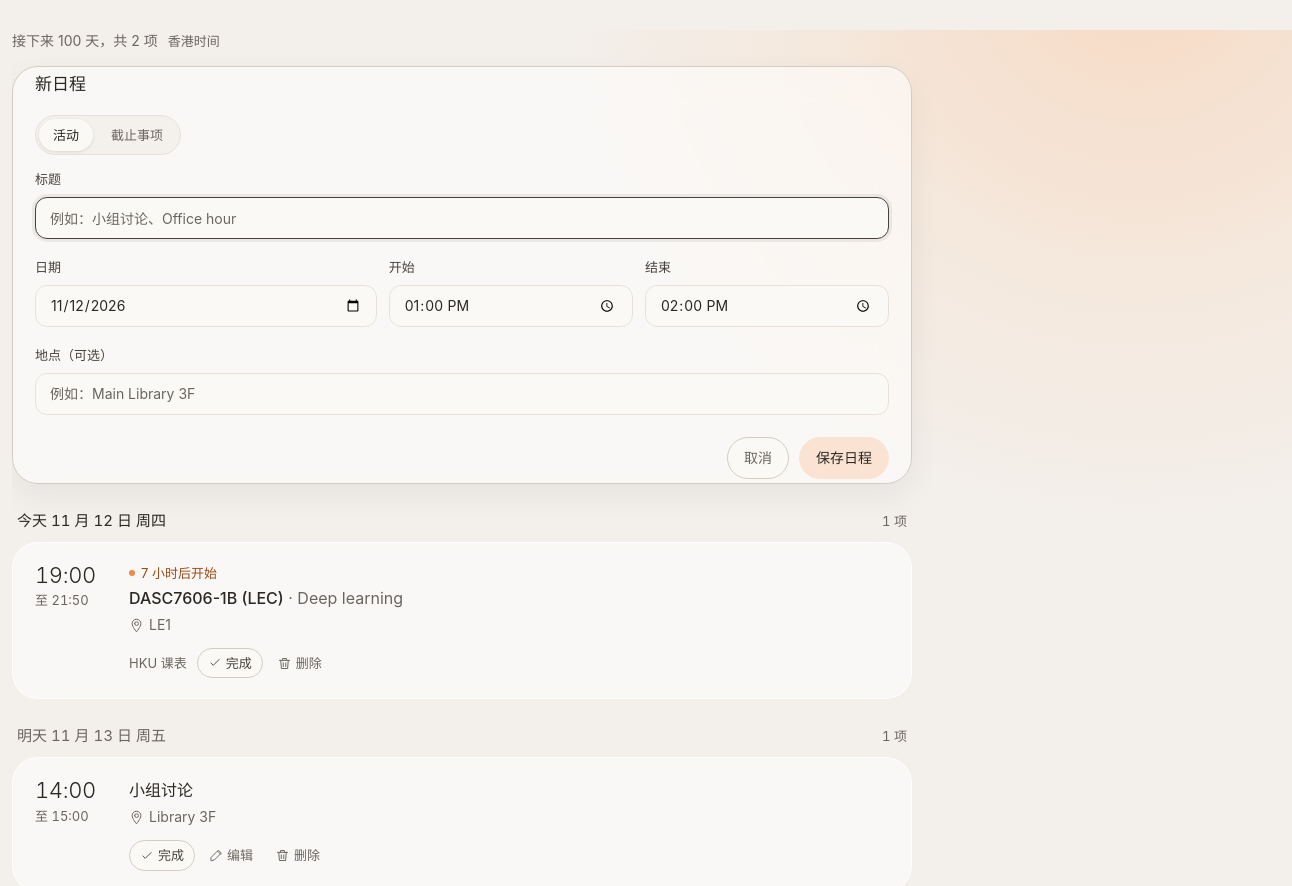
Scenario: shows a server error and keeps the form open
In the field labelled "标题": (462, 218) [35, 197, 889, 239], type "复习"
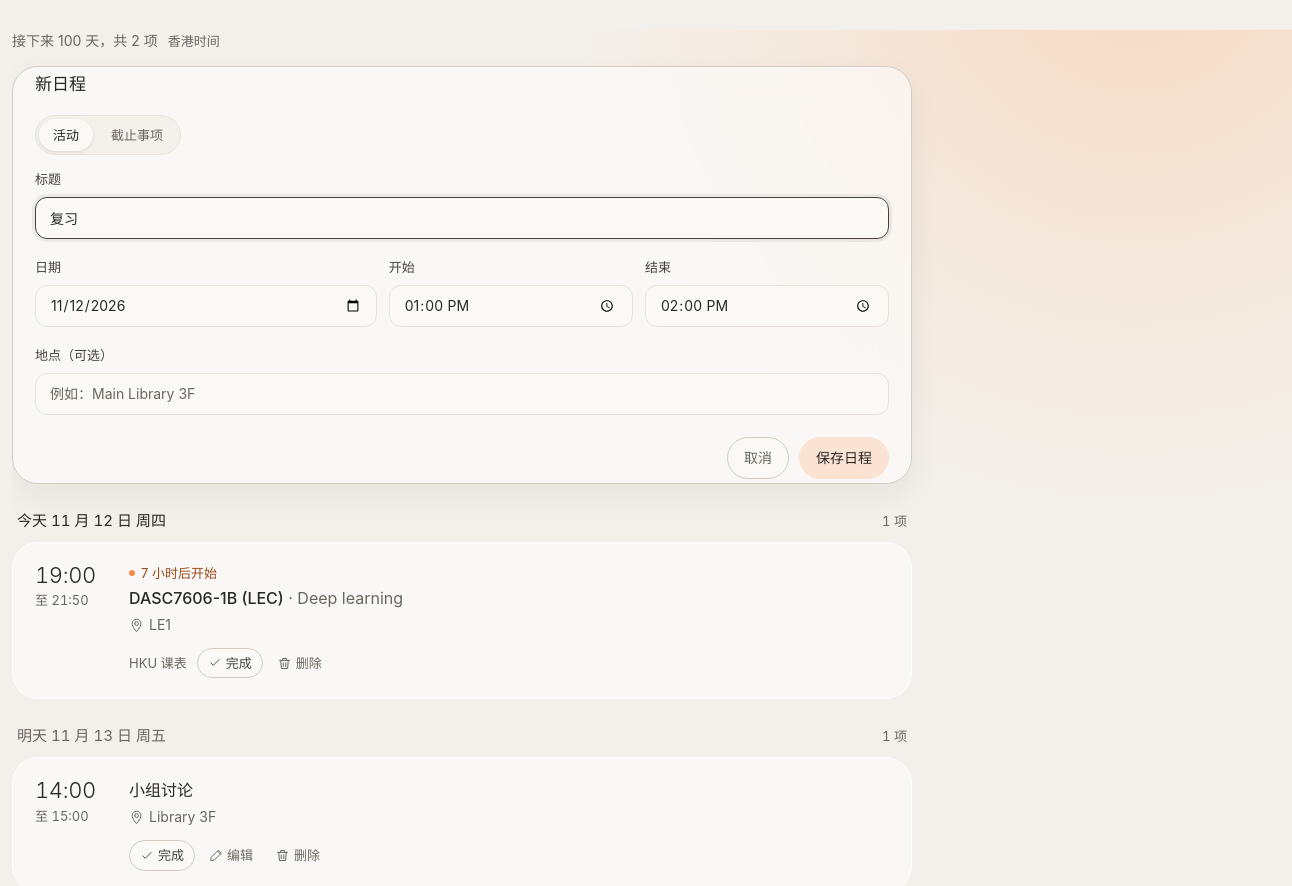
Click the button "保存日程": (844, 458) [799, 437, 889, 479]
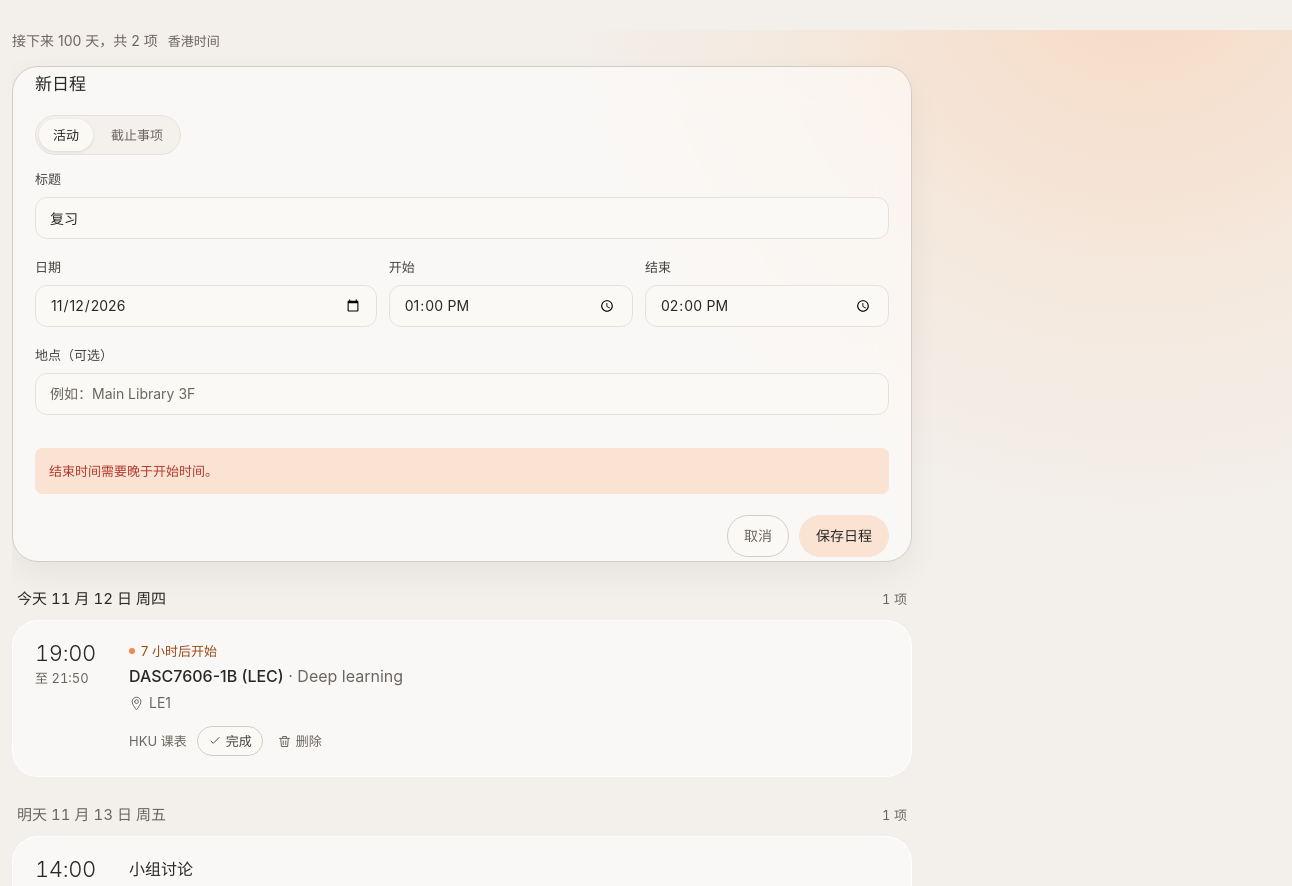
Check: the button "保存日程" is enabled, box [799, 515, 889, 557]
Check: the message reads "结束时间需要晚于开始时间。", box [49, 463, 218, 479]
